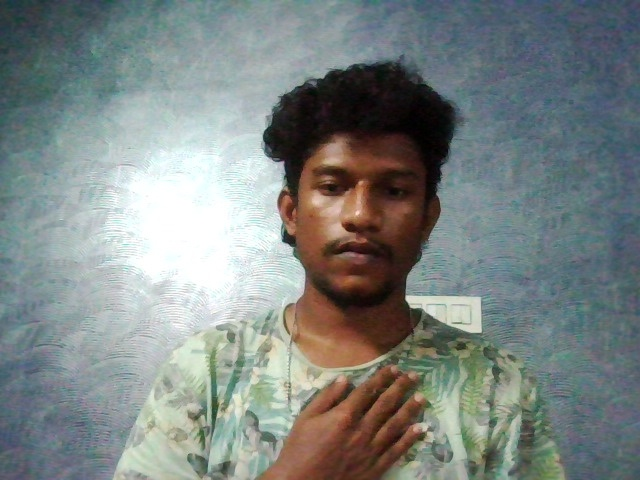please: (230, 355, 449, 480)
